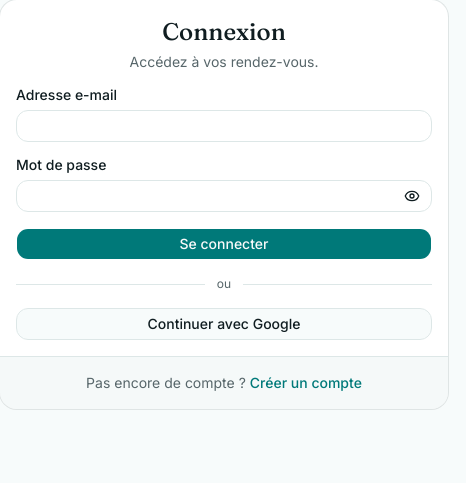
LoginForm › valide le formulaire sans appeler le serveur
Click the button "Se connecter".
click(224, 244)  # box [16,228,432,260]
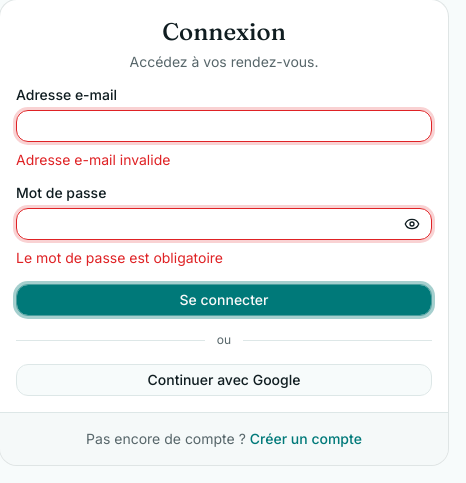
Result: the text "Adresse e-mail invalide" is shown at [16,151,170,168]
